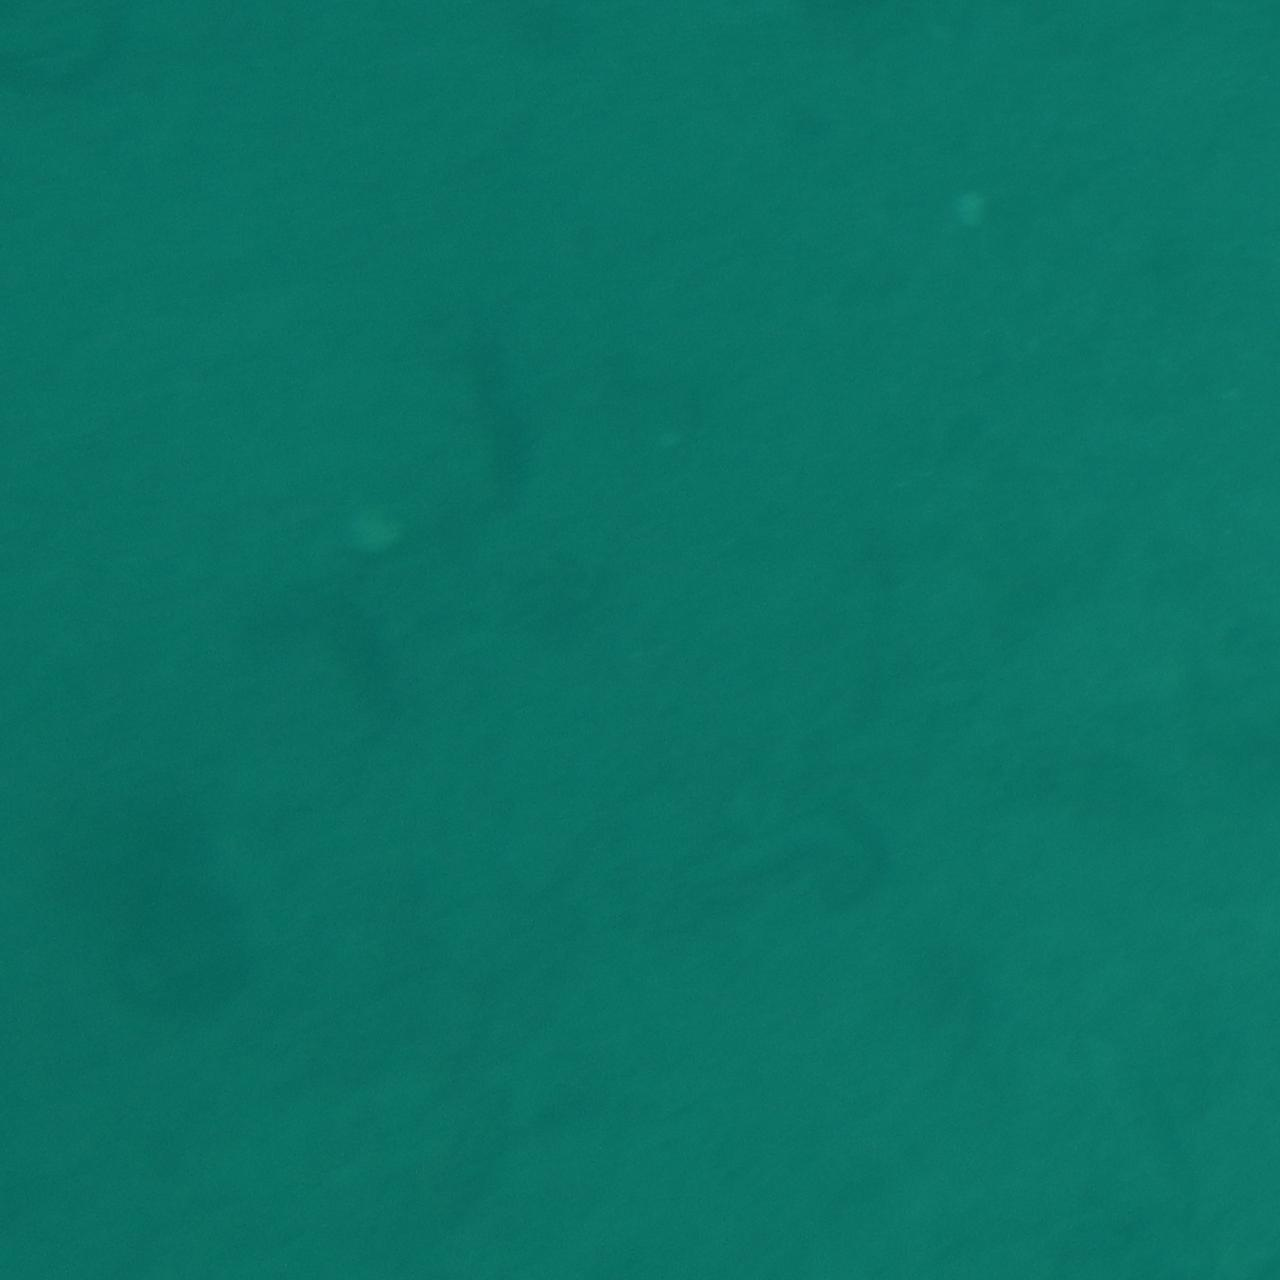Holothuria tubulosa: (205, 551, 436, 794), (651, 796, 890, 962), (437, 290, 592, 512)
